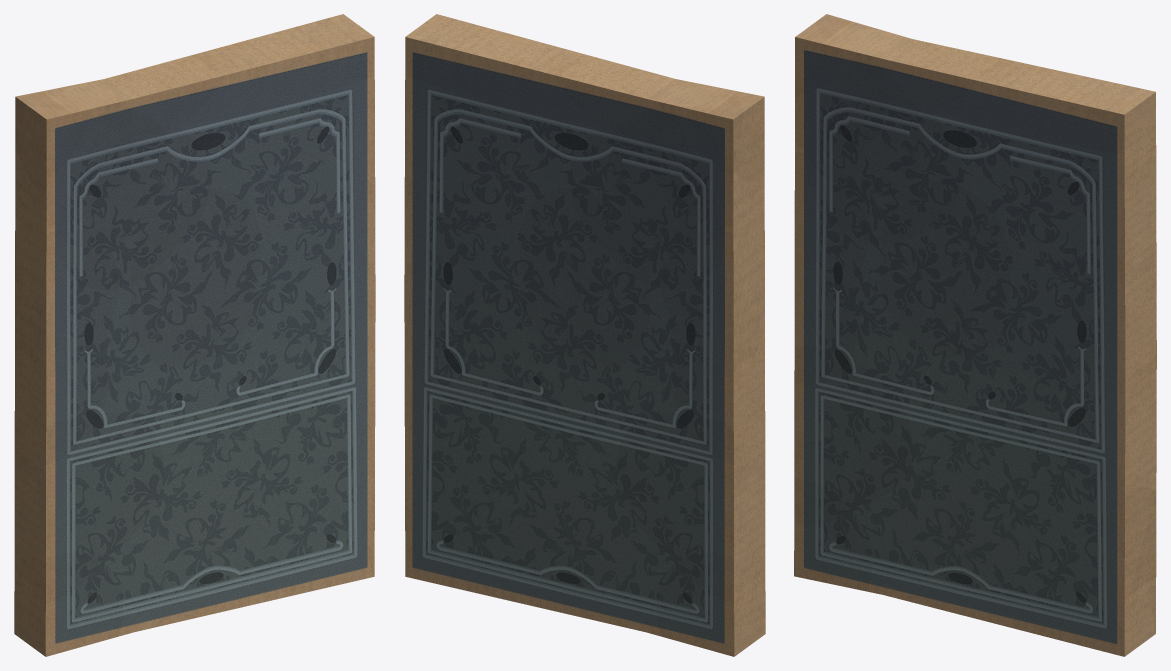
Rendered from SM_Wall_01.fbx.
3 views of the same model, side by side, from view 1: azimuth 30°, elevation 25°; view 2: azimuth 150°, elevation 25°; view 3: azimuth 330°, elevation 25° (orthographic).
Parts seen in each view (by area): view 1: Wall_01; view 2: Wall_01; view 3: Wall_01.
Boxes of the visible parts, <box> form: Wall_01: <box>14,14,375,656</box>; Wall_01: <box>404,14,765,656</box>; Wall_01: <box>794,14,1156,656</box>.
Size of the model in its own units: 796 by 1245 by 131.
